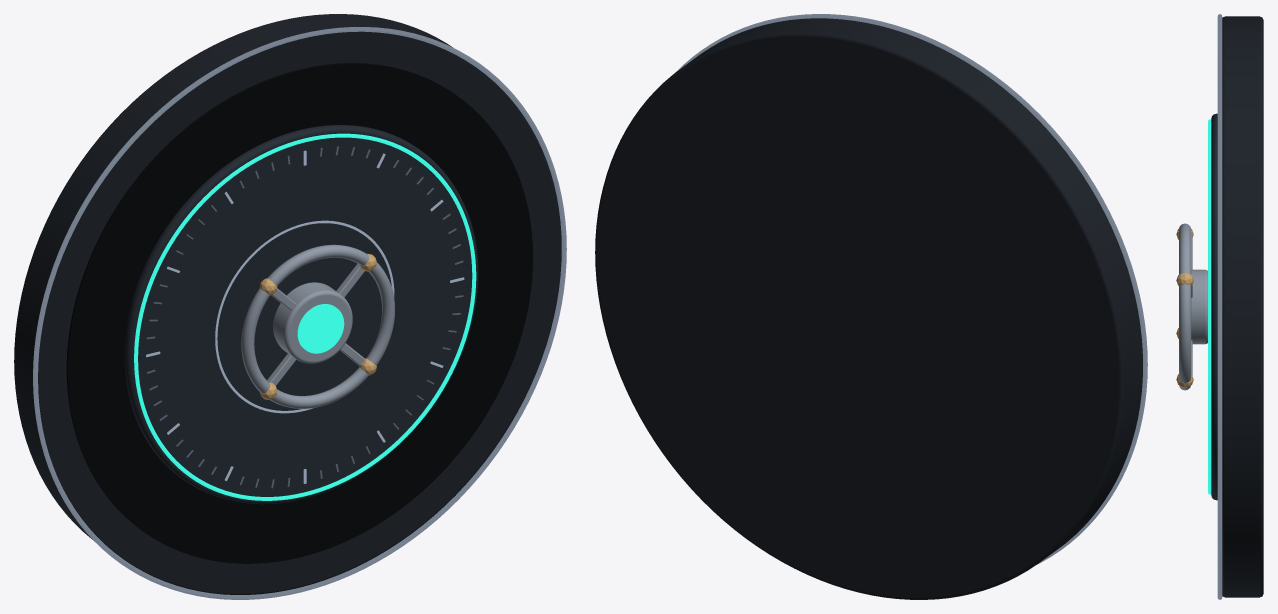
Rendered from lock.glb.
3 views of the same model, side by side, from view 1: azimuth 30°, elevation 25°; view 2: azimuth 150°, elevation 25°; view 3: azimuth 270°, elevation 25° (orthographic). The views are drawn at different scales.
Visible parts, largest first — view 1: Lock_Door, Lock_Recess, Lock_Frame, Lock_FrameRim, Lock_WheelCrown, Lock_DoorRim, Lock_WheelHub, Lock_WheelCap, Lock_DoorInner; view 2: Lock_Frame, Lock_FrameRim; view 3: Lock_Frame, Lock_FrameRim, Lock_Door, Lock_WheelCrown, Lock_DoorRim, Lock_WheelHub, Lock_WheelKnob_3.
Part boxes in pixels (x1=…): Lock_Door: x1=124, y1=125, x2=478, y2=504; Lock_Recess: x1=66, y1=63, x2=533, y2=563; Lock_Frame: x1=14, y1=14, x2=561, y2=594; Lock_FrameRim: x1=33, y1=27, x2=566, y2=599; Lock_WheelCrown: x1=241, y1=244, x2=395, y2=408; Lock_DoorRim: x1=134, y1=133, x2=476, y2=500; Lock_WheelHub: x1=273, y1=282, x2=352, y2=363; Lock_WheelCap: x1=297, y1=304, x2=344, y2=353; Lock_DoorInner: x1=215, y1=220, x2=394, y2=413; Lock_Frame: x1=595, y1=18, x2=1142, y2=599; Lock_FrameRim: x1=675, y1=14, x2=1147, y2=564; Lock_Frame: x1=1222, y1=16, x2=1263, y2=597; Lock_FrameRim: x1=1217, y1=14, x2=1222, y2=599; Lock_Door: x1=1211, y1=113, x2=1217, y2=500; Lock_WheelCrown: x1=1179, y1=223, x2=1191, y2=390; Lock_DoorRim: x1=1208, y1=119, x2=1211, y2=494; Lock_WheelHub: x1=1191, y1=269, x2=1207, y2=344; Lock_WheelKnob_3: x1=1176, y1=272, x2=1193, y2=285.
Size of the model in its own units: 4.7 by 4.7 by 0.7.
